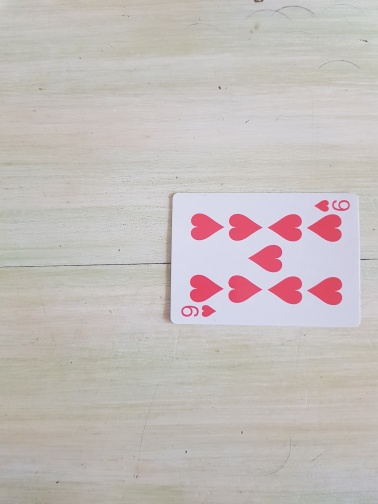nine: (169, 191, 363, 328)
